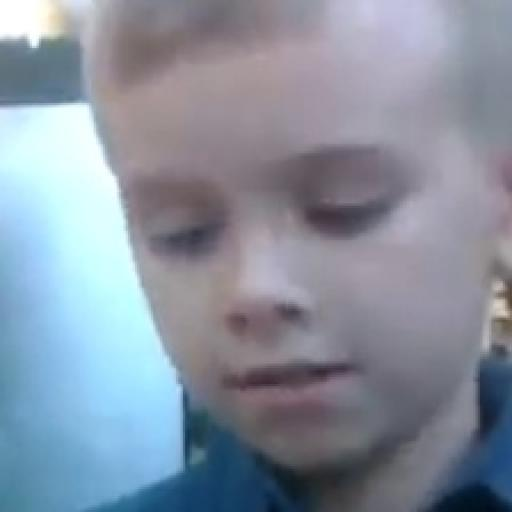Autism: (69, 2, 464, 512)
